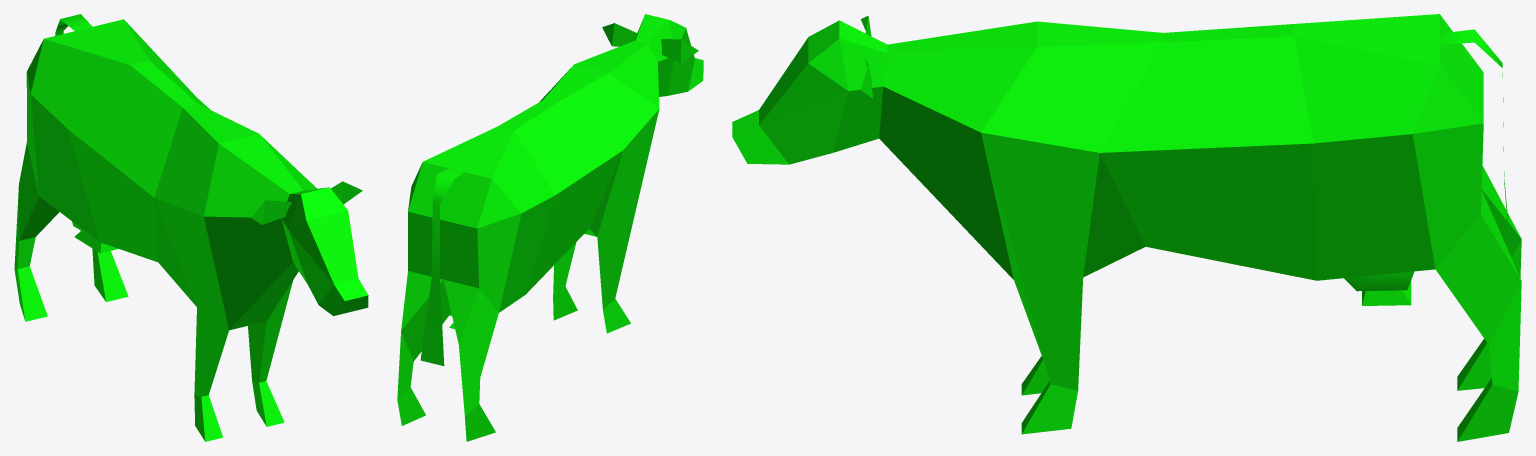
File: Cow1.fbx
3 renders of one model, left to right at view 1: azimuth 30°, elevation 25°; view 2: azimuth 150°, elevation 25°; view 3: azimuth 270°, elevation 25°, orthographic. The views are drawn at different scales.
Parts seen in each view (by area): view 1: Cow, CowInverse; view 2: Cow, CowInverse; view 3: Cow, CowInverse.
Part boxes in pixels (x1=…): Cow: x1=14, y1=14, x2=368, y2=441; CowInverse: x1=15, y1=14, x2=368, y2=440; Cow: x1=397, y1=14, x2=703, y2=441; CowInverse: x1=398, y1=15, x2=703, y2=440; Cow: x1=732, y1=14, x2=1521, y2=441; CowInverse: x1=732, y1=15, x2=1521, y2=440.
Size of the model in its own units: 2.18 by 4.72 by 8.89.
2 materials, 2 textured.
